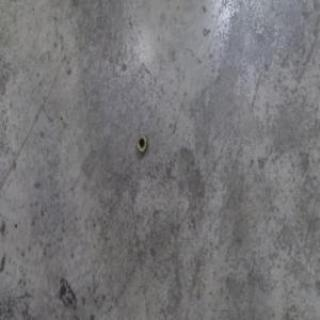Nuttrack_idkeyframe: (135, 133, 147, 155)
